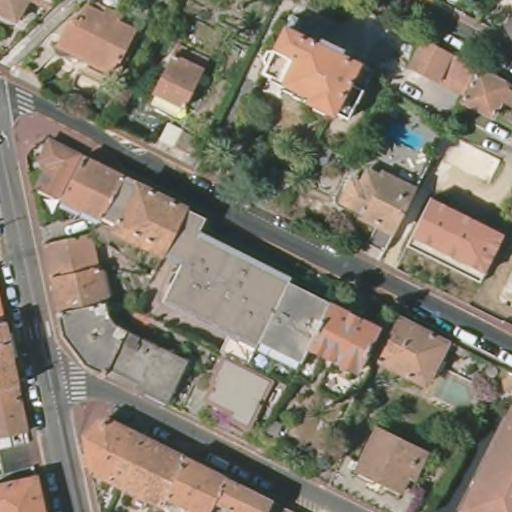pool: (390, 120, 430, 154)
